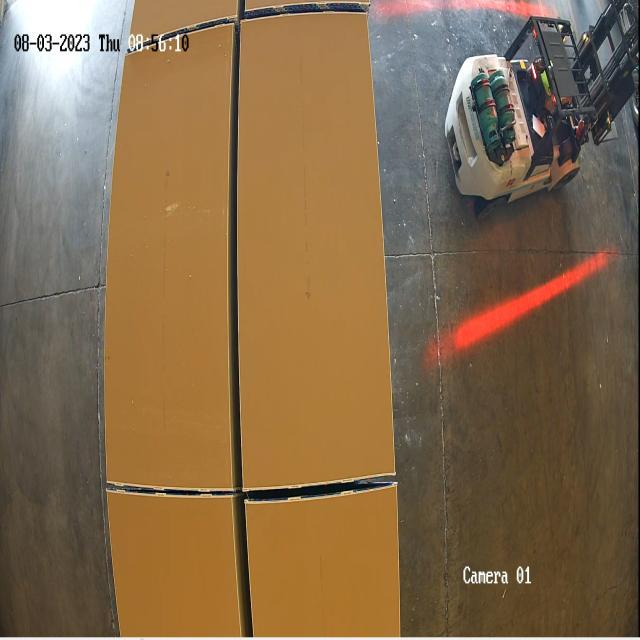forklift: (444, 3, 640, 224)
